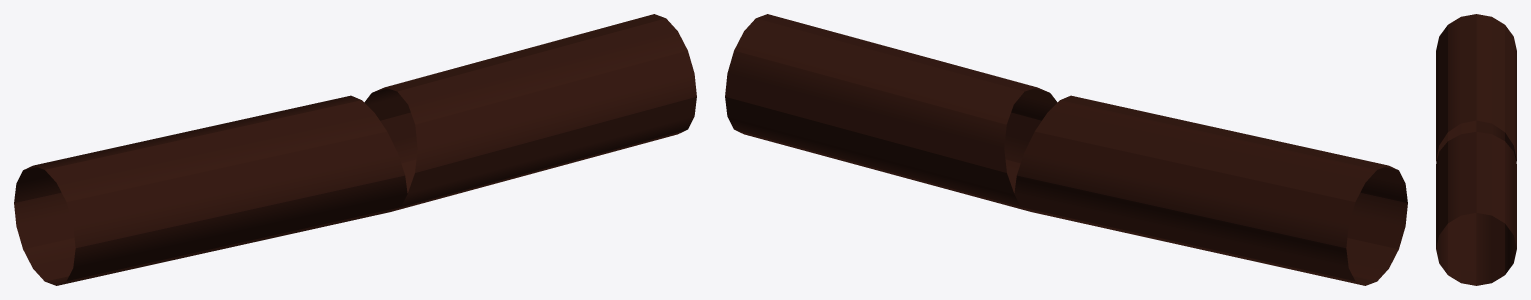
File: prop_sqwing_wood_trunck.glb
3 views of the same model, side by side, from view 1: azimuth 30°, elevation 25°; view 2: azimuth 150°, elevation 25°; view 3: azimuth 270°, elevation 25° (orthographic). The views are drawn at different scales.
Visible parts, largest first — view 1: Props with out snow_Sqwing wood trunck_0; view 2: Props with out snow_Sqwing wood trunck_0; view 3: Props with out snow_Sqwing wood trunck_0.
Part boxes in pixels (box(x1,y1,x2,y2)): Props with out snow_Sqwing wood trunck_0: box(14, 14, 696, 285); Props with out snow_Sqwing wood trunck_0: box(725, 14, 1407, 285); Props with out snow_Sqwing wood trunck_0: box(1436, 14, 1516, 285).
Size of the model in its own units: 6.2 by 1.14 by 1.07.
